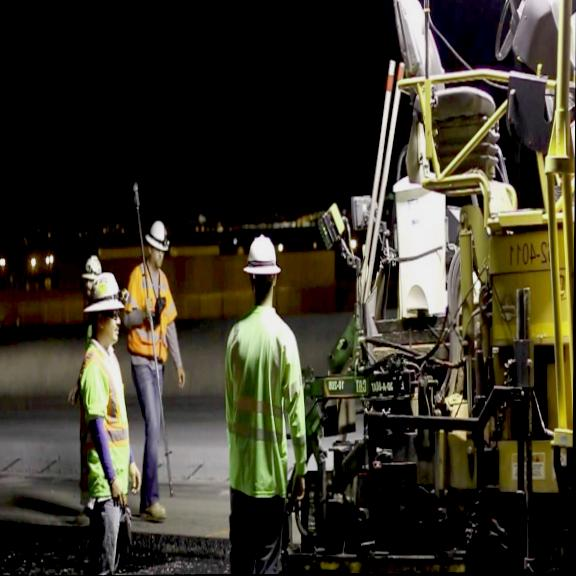safety_vest: (223, 302, 301, 496), (77, 343, 133, 505), (127, 266, 180, 359)
